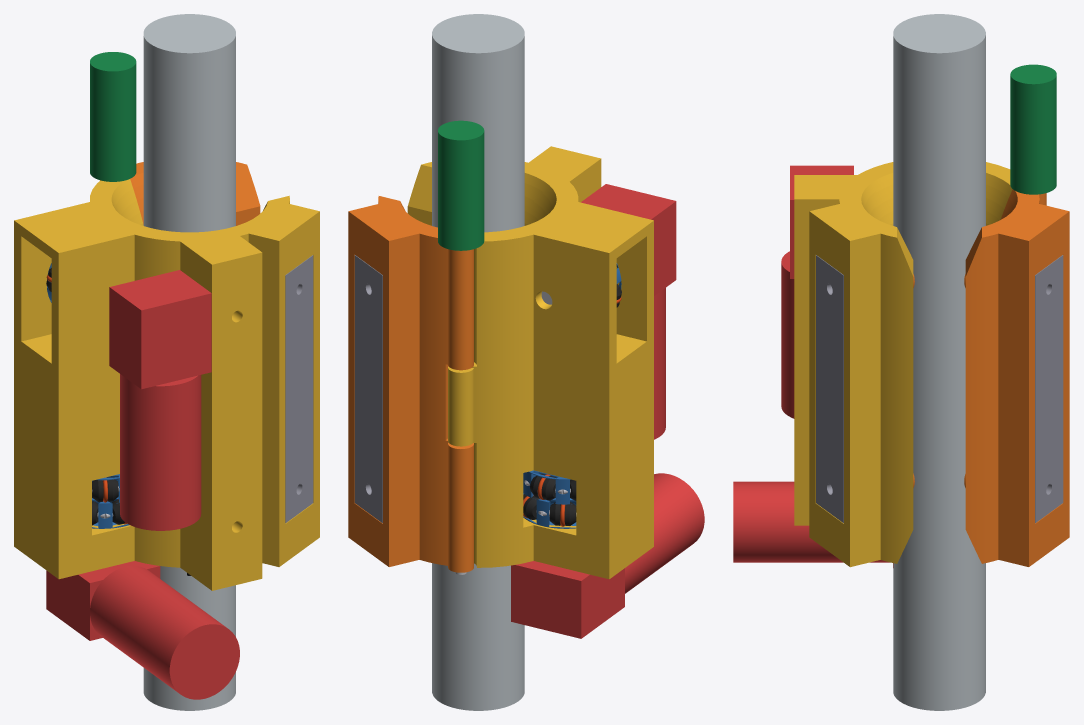
File: hand-sleeve.glb
The picture shows the model from 3 angles, left to right: view 1: azimuth 30°, elevation 25°; view 2: azimuth 150°, elevation 25°; view 3: azimuth 270°, elevation 25°; orthographic projection.
Parts seen in each view (by area): view 1: sleeve, track_pipe, roll_motor, drive_motor, drive_gearbox, m60_cap, jaw_motor, roll_gearbox, jaw, jaw_gearbox, roll_wheel_rollers, roll_wheel_hub; view 2: sleeve, jaw, track_pipe, p60_cap, roll_gearbox, jaw_motor, roll_motor, drive_gearbox, drive_motor, jaw_gearbox, roll_wheel_rollers, roll_wheel_hub; view 3: track_pipe, sleeve, jaw, p60_cap, m60_cap, roll_motor, jaw_motor, drive_motor, jaw_gearbox, drive_gearbox.
Boxes of the visible parts, bbox=[...] form: sleeve: bbox=[14, 179, 319, 590]; track_pipe: bbox=[143, 14, 235, 710]; roll_motor: bbox=[90, 565, 239, 699]; drive_motor: bbox=[120, 374, 201, 530]; drive_gearbox: bbox=[109, 270, 211, 389]; m60_cap: bbox=[285, 255, 313, 523]; jaw_motor: bbox=[90, 52, 136, 150]; roll_gearbox: bbox=[46, 561, 160, 640]; jaw: bbox=[100, 162, 260, 225]; jaw_gearbox: bbox=[90, 142, 136, 181]; roll_wheel_rollers: bbox=[92, 477, 125, 525]; roll_wheel_hub: bbox=[92, 474, 129, 528]; sleeve: bbox=[407, 146, 653, 579]; jaw: bbox=[348, 196, 473, 572]; track_pipe: bbox=[432, 14, 524, 710]; p60_cap: bbox=[354, 255, 382, 523]; roll_gearbox: bbox=[511, 561, 624, 638]; jaw_motor: bbox=[438, 120, 484, 219]; roll_motor: bbox=[625, 473, 704, 593]; drive_gearbox: bbox=[581, 184, 676, 295]; drive_motor: bbox=[654, 288, 665, 439]; jaw_gearbox: bbox=[438, 210, 484, 250]; roll_wheel_rollers: bbox=[523, 474, 576, 525]; roll_wheel_hub: bbox=[523, 470, 576, 528]; track_pipe: bbox=[893, 14, 985, 710]; sleeve: bbox=[794, 162, 1012, 567]; jaw: bbox=[965, 189, 1069, 566]; p60_cap: bbox=[1035, 255, 1063, 523]; m60_cap: bbox=[816, 255, 843, 523]; roll_motor: bbox=[733, 481, 889, 562]; jaw_motor: bbox=[1010, 64, 1056, 162]; drive_motor: bbox=[781, 251, 794, 418]; jaw_gearbox: bbox=[1010, 154, 1056, 194]; drive_gearbox: bbox=[790, 165, 853, 278].
Bounding box in the file's own units: 94.95 × 250 × 116.
